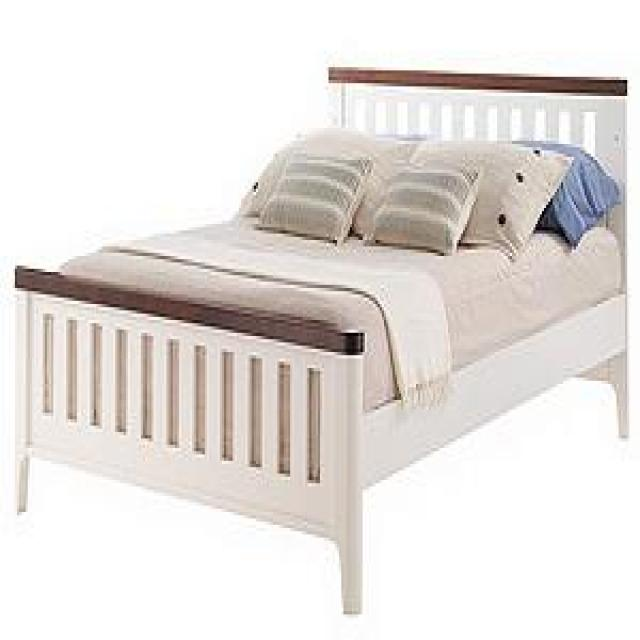bed: (11, 64, 629, 614)
